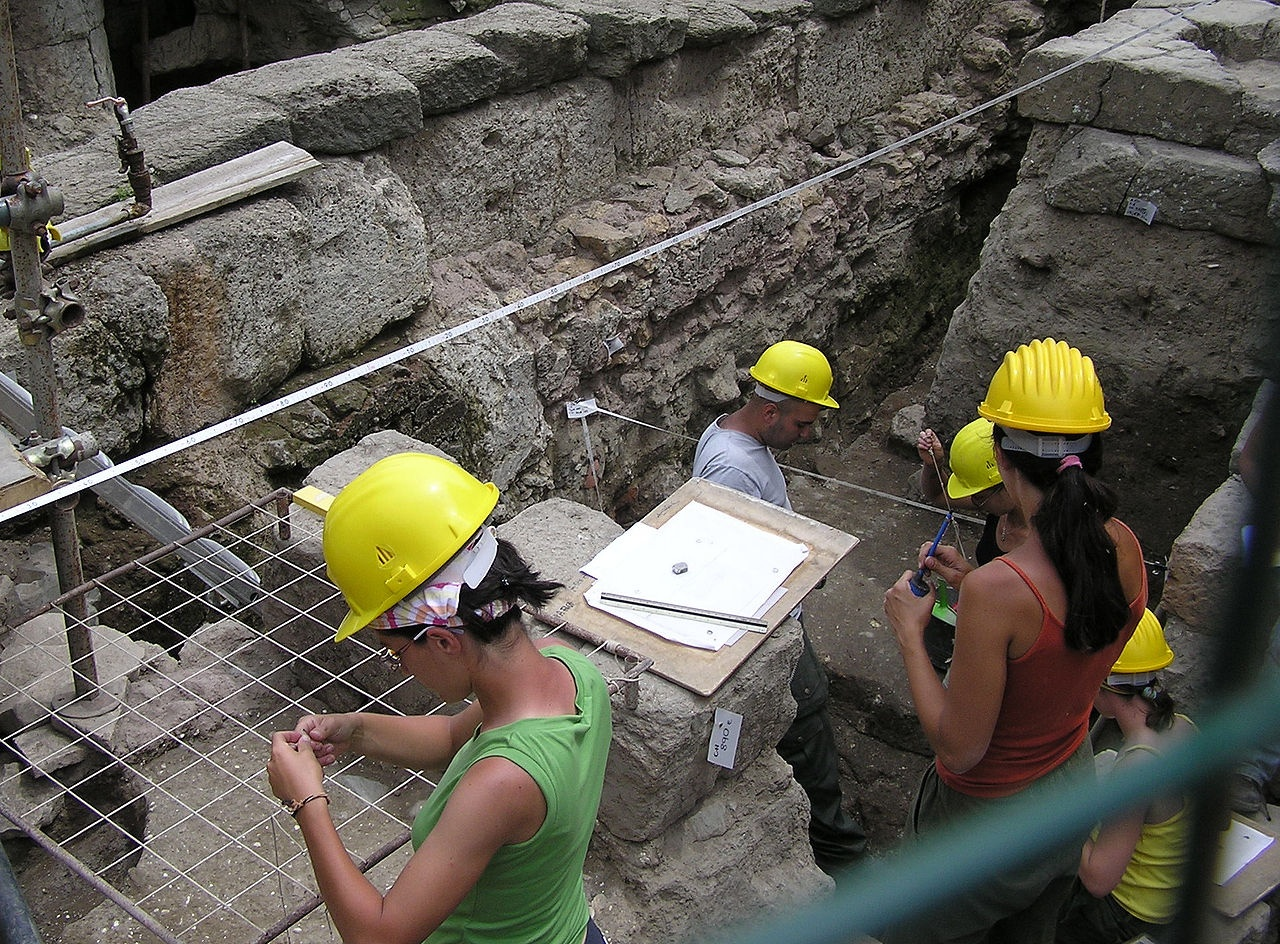yellow: (314, 449, 516, 692), (984, 339, 1113, 500), (734, 337, 836, 444), (1098, 606, 1168, 720), (947, 421, 1022, 521)
